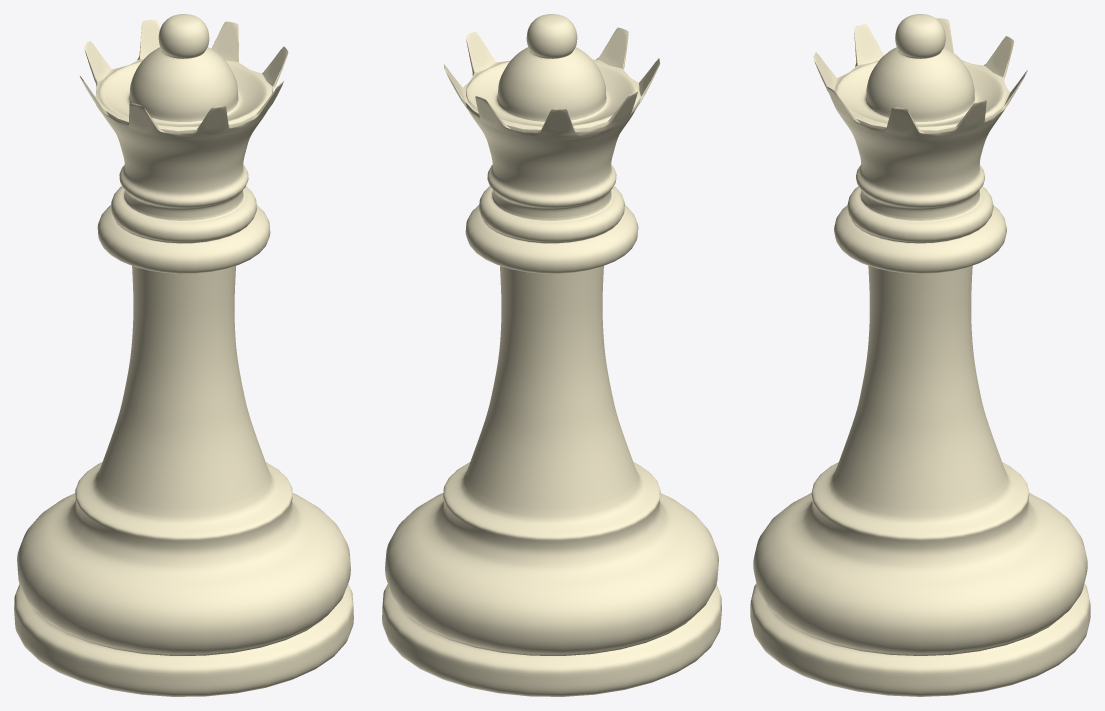
The model's file is Queen.fbx.
The picture shows the model from 3 angles, left to right: view 1: azimuth 30°, elevation 25°; view 2: azimuth 150°, elevation 25°; view 3: azimuth 270°, elevation 25°; orthographic projection.
Visible parts, largest first — view 1: Queen; view 2: Queen; view 3: Queen.
Boxes of the visible parts, x1,y1,x2,y2 form: Queen: [14, 14, 353, 696]; Queen: [382, 14, 721, 696]; Queen: [750, 14, 1090, 696].
Size of the model in its own units: 170 by 337 by 170.
